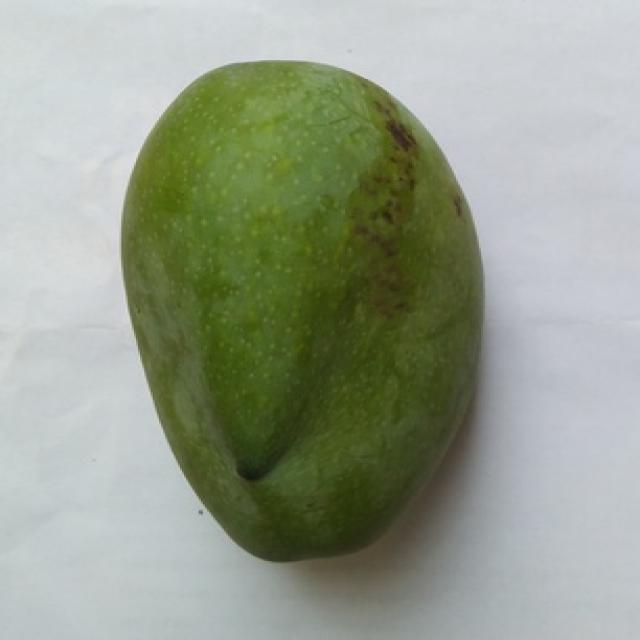Mango: (121, 62, 481, 559)
